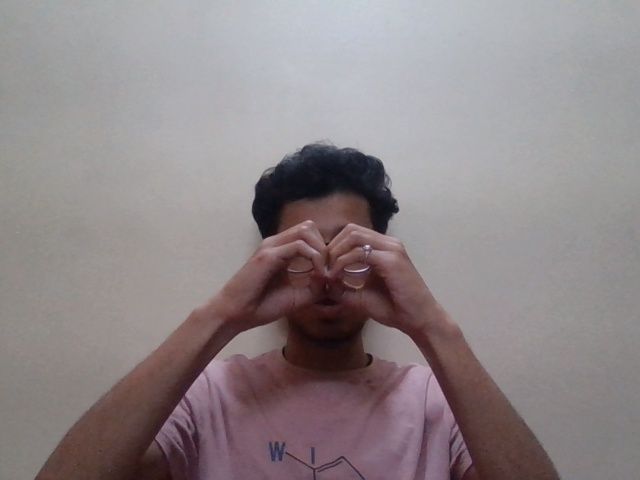see: (243, 216, 439, 343)
